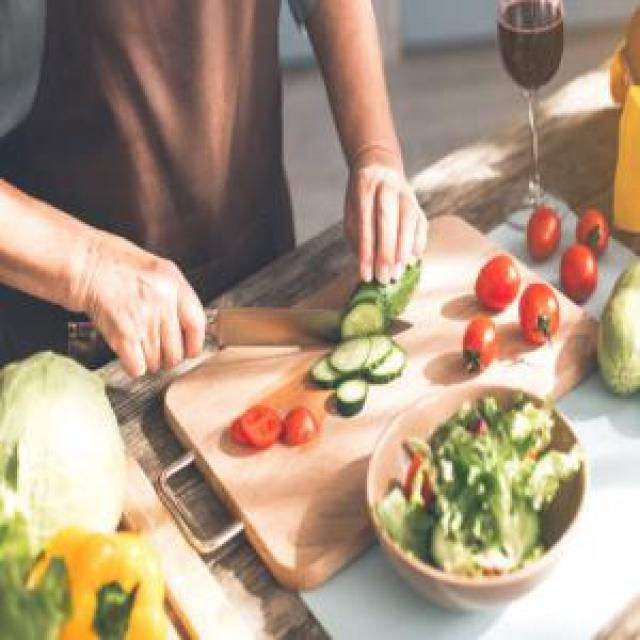knife: (62, 294, 368, 385)
